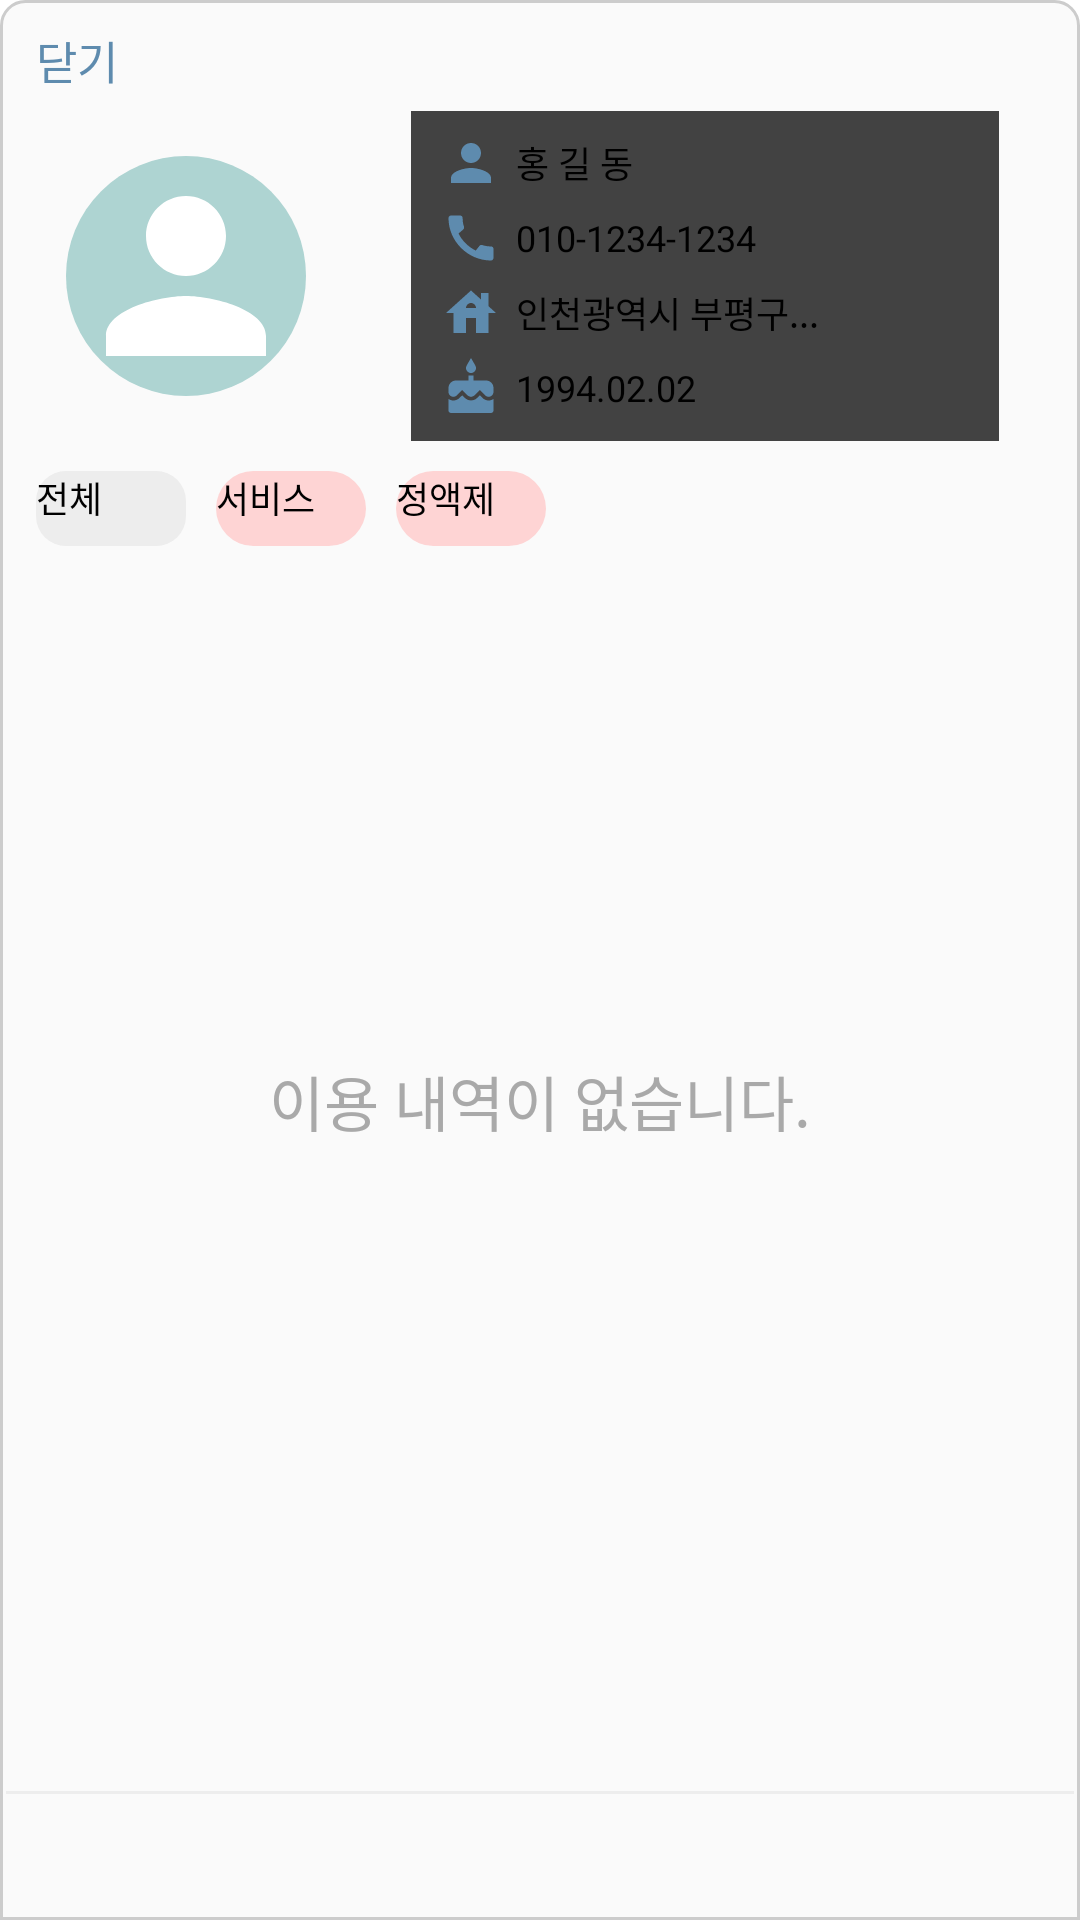

Screen size 1080px×1920px. Icon name, then its box in pixels as (x1, y1, x2, y2):
cake: (448, 358, 494, 413)
call: (448, 215, 494, 261)
house: (446, 291, 496, 333)
